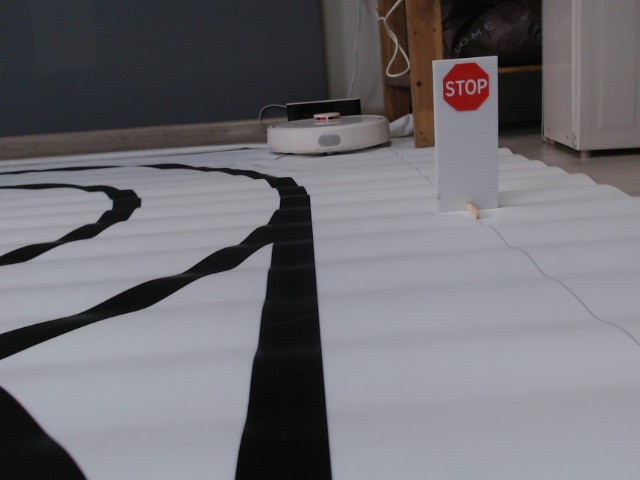Stop: (441, 60, 490, 112)
